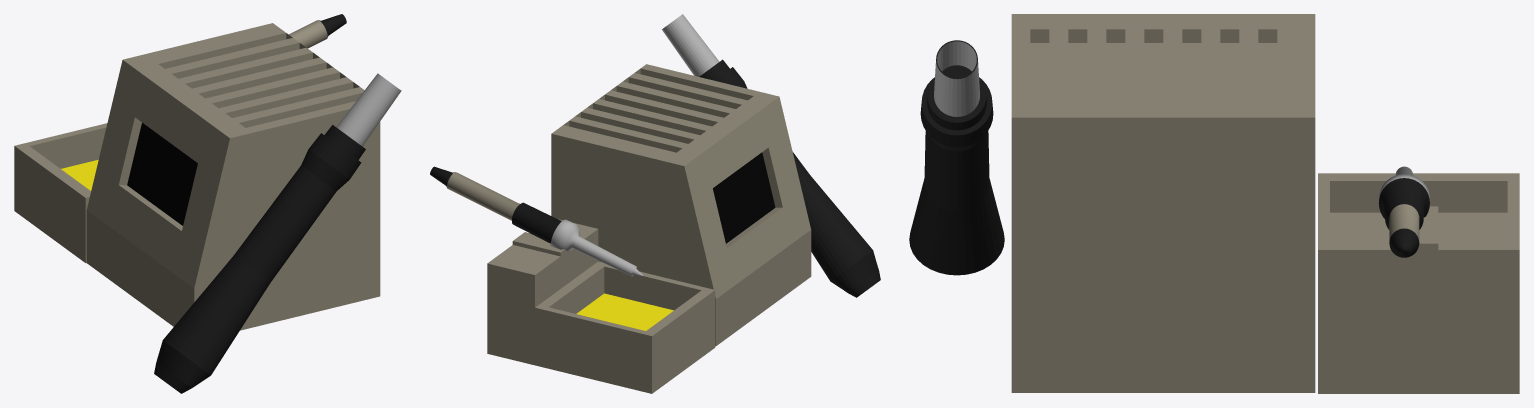
Rendered from SolderingStation.fbx.
3 views of the same model, side by side, from view 1: azimuth 30°, elevation 25°; view 2: azimuth 150°, elevation 25°; view 3: azimuth 270°, elevation 25° (orthographic). The views are drawn at different scales.
Parts seen in each view (by area): view 1: SolderingStation; view 2: SolderingStation; view 3: SolderingStation.
Part boxes in pixels (x1,y1,x2,y2): SolderingStation: (14,14,401,393); SolderingStation: (430,14,880,393); SolderingStation: (909,14,1519,393).
Bounding box in the file's own units: 27.68 × 20.38 × 30.15.
